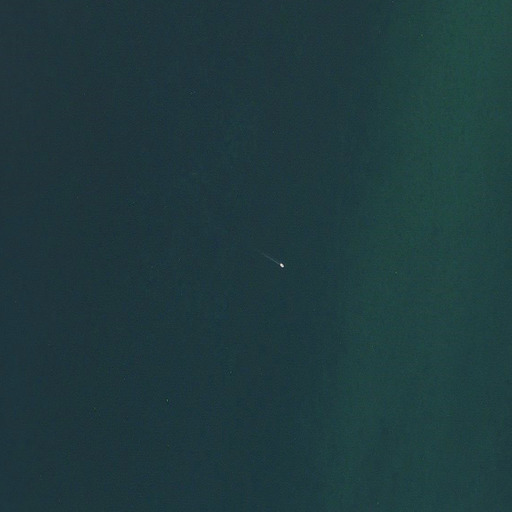ship: (277, 261, 283, 268)
